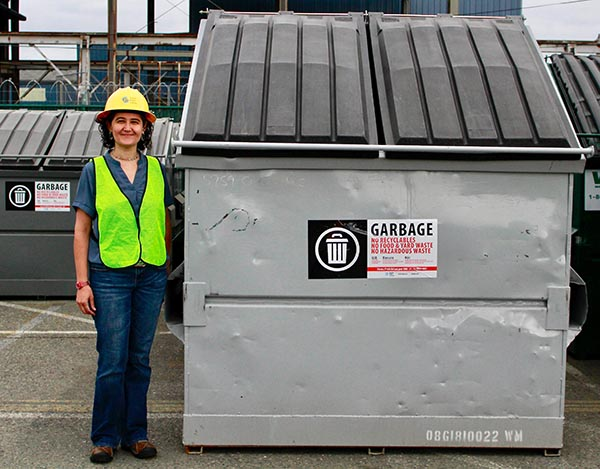Dumpster: (174, 6, 577, 461), (1, 98, 101, 291)
Person: (64, 89, 172, 469)
